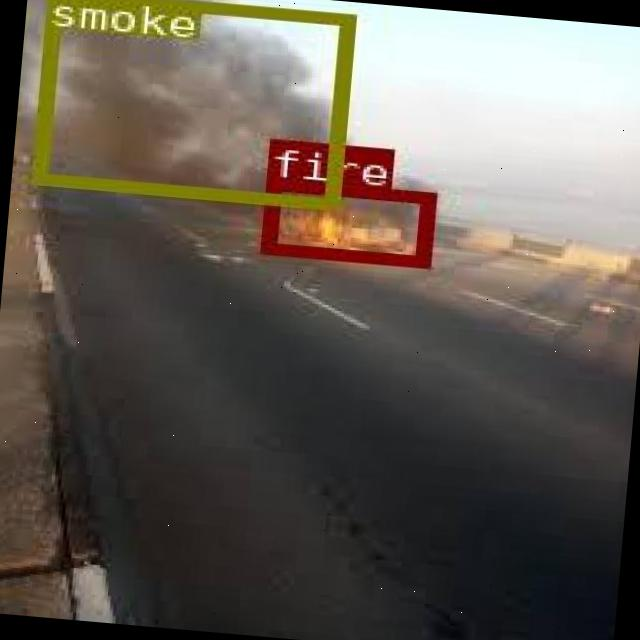fire: (258, 176, 433, 265)
smoke: (30, 0, 354, 209)
